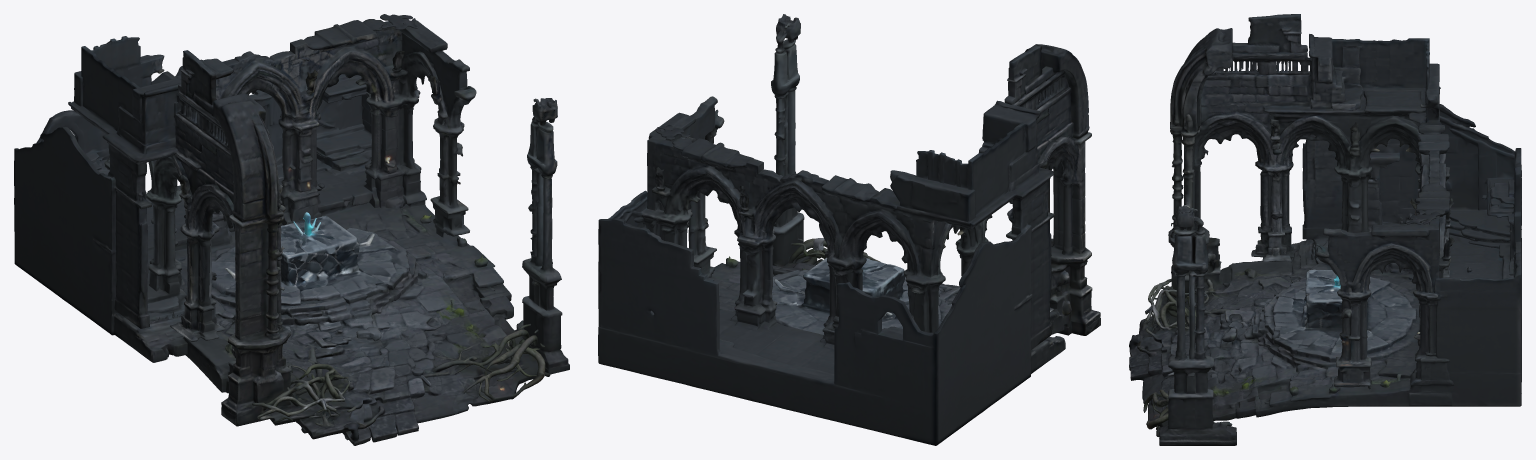
File: ashveil-hero-original.glb
3 views of the same model, side by side, from view 1: azimuth 30°, elevation 25°; view 2: azimuth 150°, elevation 25°; view 3: azimuth 270°, elevation 25° (orthographic). The views are drawn at different scales.
Parts seen in each view (by area): view 1: tripo_node_db32eda4-41a5-4dff-be07-8a7dc14cb797; view 2: tripo_node_db32eda4-41a5-4dff-be07-8a7dc14cb797; view 3: tripo_node_db32eda4-41a5-4dff-be07-8a7dc14cb797.
Boxes of the visible parts, x1,y1,x2,y2 form: tripo_node_db32eda4-41a5-4dff-be07-8a7dc14cb797: (14,14,569,445); tripo_node_db32eda4-41a5-4dff-be07-8a7dc14cb797: (598,14,1100,445); tripo_node_db32eda4-41a5-4dff-be07-8a7dc14cb797: (1129,14,1521,445).
Bounding box in the file's own units: 0.9264 × 0.8621 × 1.
1 material, 1 textured.
